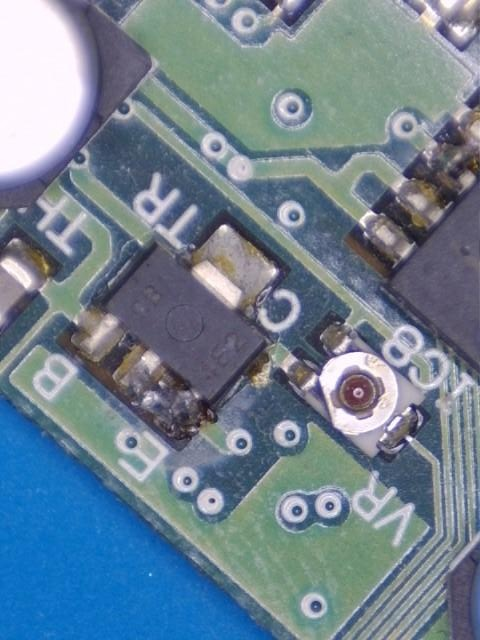pcb_defect: (121, 348, 201, 441)
